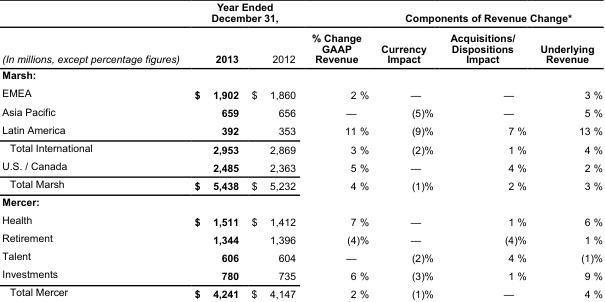table: (1, 1, 602, 299)
table column: (1, 1, 186, 299), (441, 1, 532, 299), (302, 1, 374, 299), (532, 1, 602, 299), (374, 1, 441, 299), (186, 1, 244, 299), (244, 1, 302, 299)
table column header: (1, 1, 602, 66)
table projected row header: (1, 66, 602, 83), (1, 193, 602, 210)
table row: (1, 27, 602, 66), (1, 1, 602, 27), (1, 83, 602, 102), (1, 120, 602, 139), (1, 210, 602, 229), (1, 102, 602, 120), (1, 139, 602, 157), (1, 157, 602, 175), (1, 175, 602, 193), (1, 229, 602, 247), (1, 247, 602, 265), (1, 265, 602, 283), (1, 66, 602, 83), (1, 193, 602, 210), (1, 283, 602, 299)
table spanning cell: (1, 1, 186, 66), (374, 1, 602, 27), (302, 1, 374, 66), (186, 1, 302, 27)
